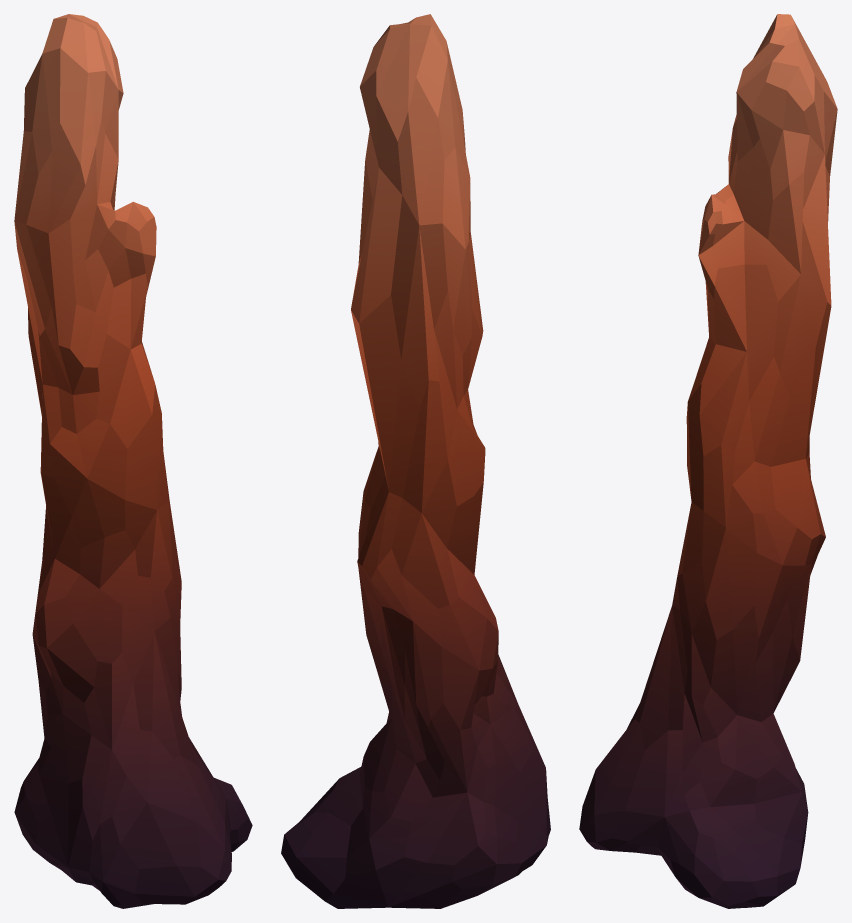
File: 05_fallen_tree_01.fbx
3 views of the same model, side by side, from view 1: azimuth 30°, elevation 25°; view 2: azimuth 150°, elevation 25°; view 3: azimuth 270°, elevation 25° (orthographic). The views are drawn at different scales.
Visible parts, largest first — view 1: 05 fallen_tree_01; view 2: 05 fallen_tree_01; view 3: 05 fallen_tree_01.
Boxes of the visible parts, left/top/right/bottom form: 05 fallen_tree_01: left=14, top=14, right=252, bottom=908; 05 fallen_tree_01: left=281, top=14, right=550, bottom=908; 05 fallen_tree_01: left=579, top=14, right=837, bottom=908.
Bounding box in the file's own units: 78.24 × 303 × 84.42.
